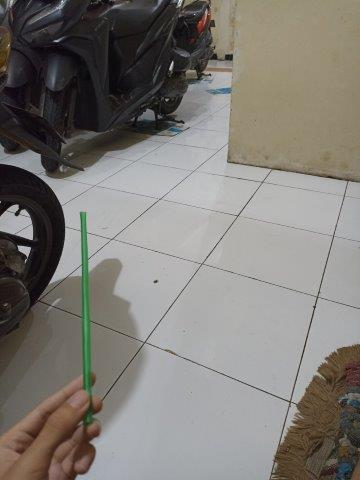sedotan: (80, 212, 93, 427)
